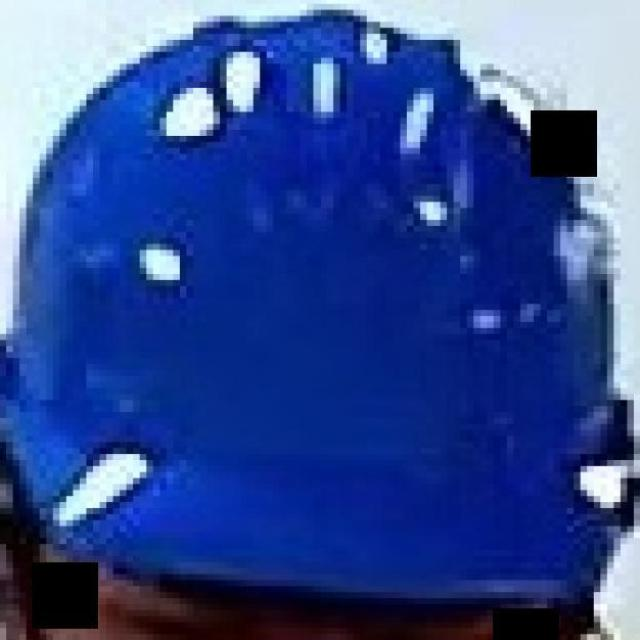helmet: (0, 2, 637, 617)
